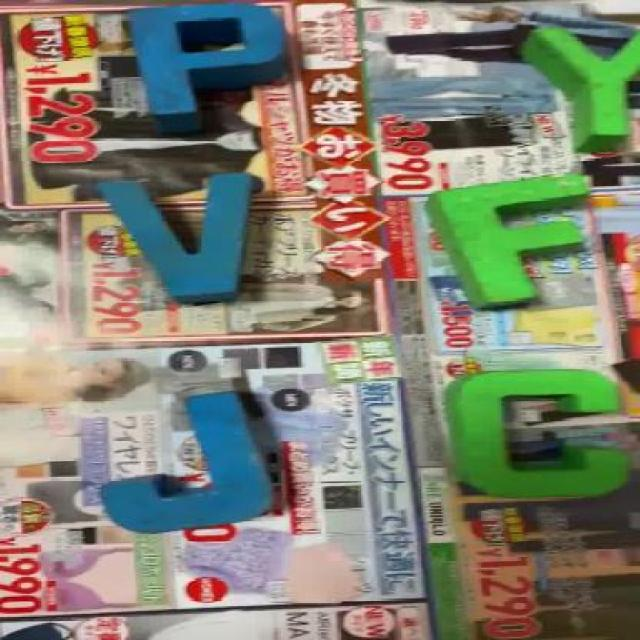C: (454, 370, 628, 498)
F: (433, 170, 605, 315)
J: (99, 392, 276, 528)
P: (135, 3, 283, 129)
V: (107, 175, 258, 299)
Y: (528, 29, 640, 146)
